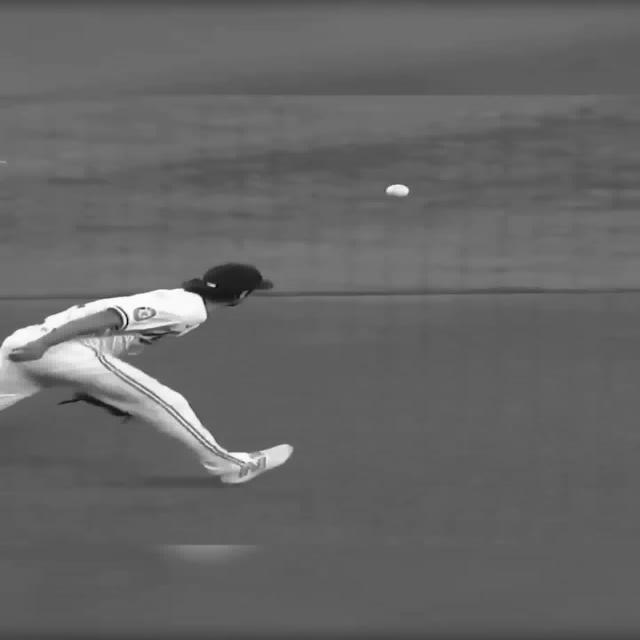baseball: (385, 184, 409, 198)
shoe: (218, 443, 294, 484), (57, 391, 133, 420), (218, 452, 266, 484)
